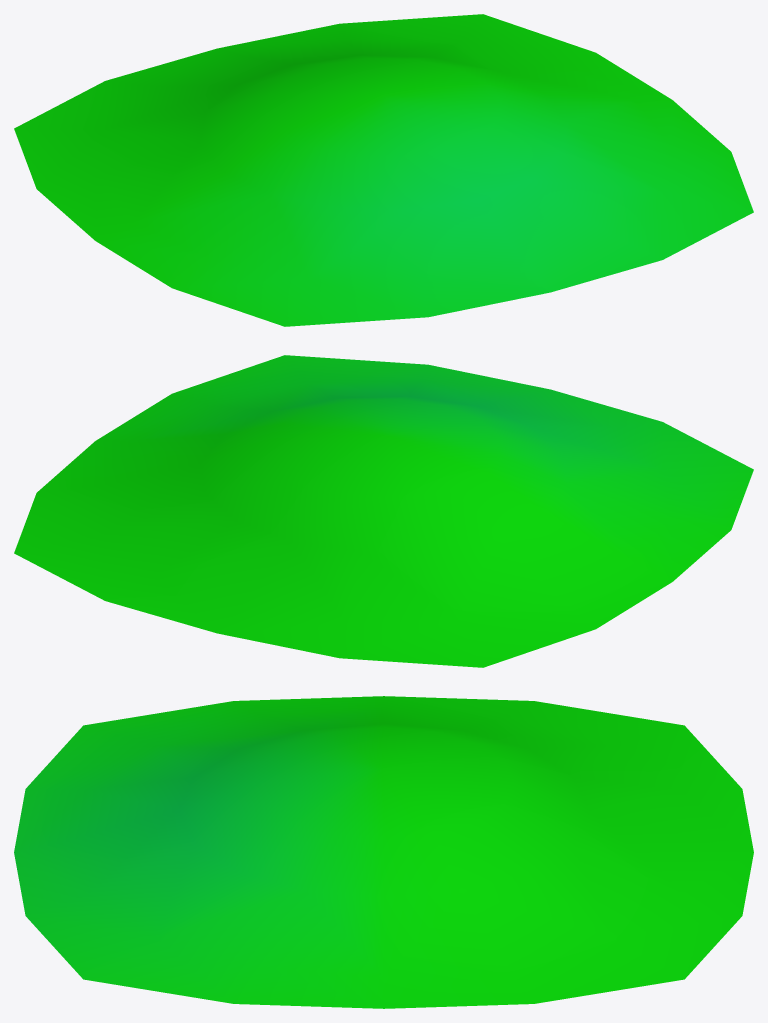
The model's file is uni_shockwave_ground.fbx.
3 renders of one model, top to bottom at view 1: azimuth 30°, elevation 25°; view 2: azimuth 150°, elevation 25°; view 3: azimuth 270°, elevation 25°, orthographic. The views are drawn at different scales.
Parts seen in each view (by area): view 1: uni_shockwave_sq; view 2: uni_shockwave_sq; view 3: uni_shockwave_sq.
Part boxes in pixels (x1,y1,x2,y2): uni_shockwave_sq: [14, 14, 753, 326]; uni_shockwave_sq: [14, 355, 753, 667]; uni_shockwave_sq: [14, 696, 753, 1008].
Size of the model in its own units: 6400 by 6400 by 800.
